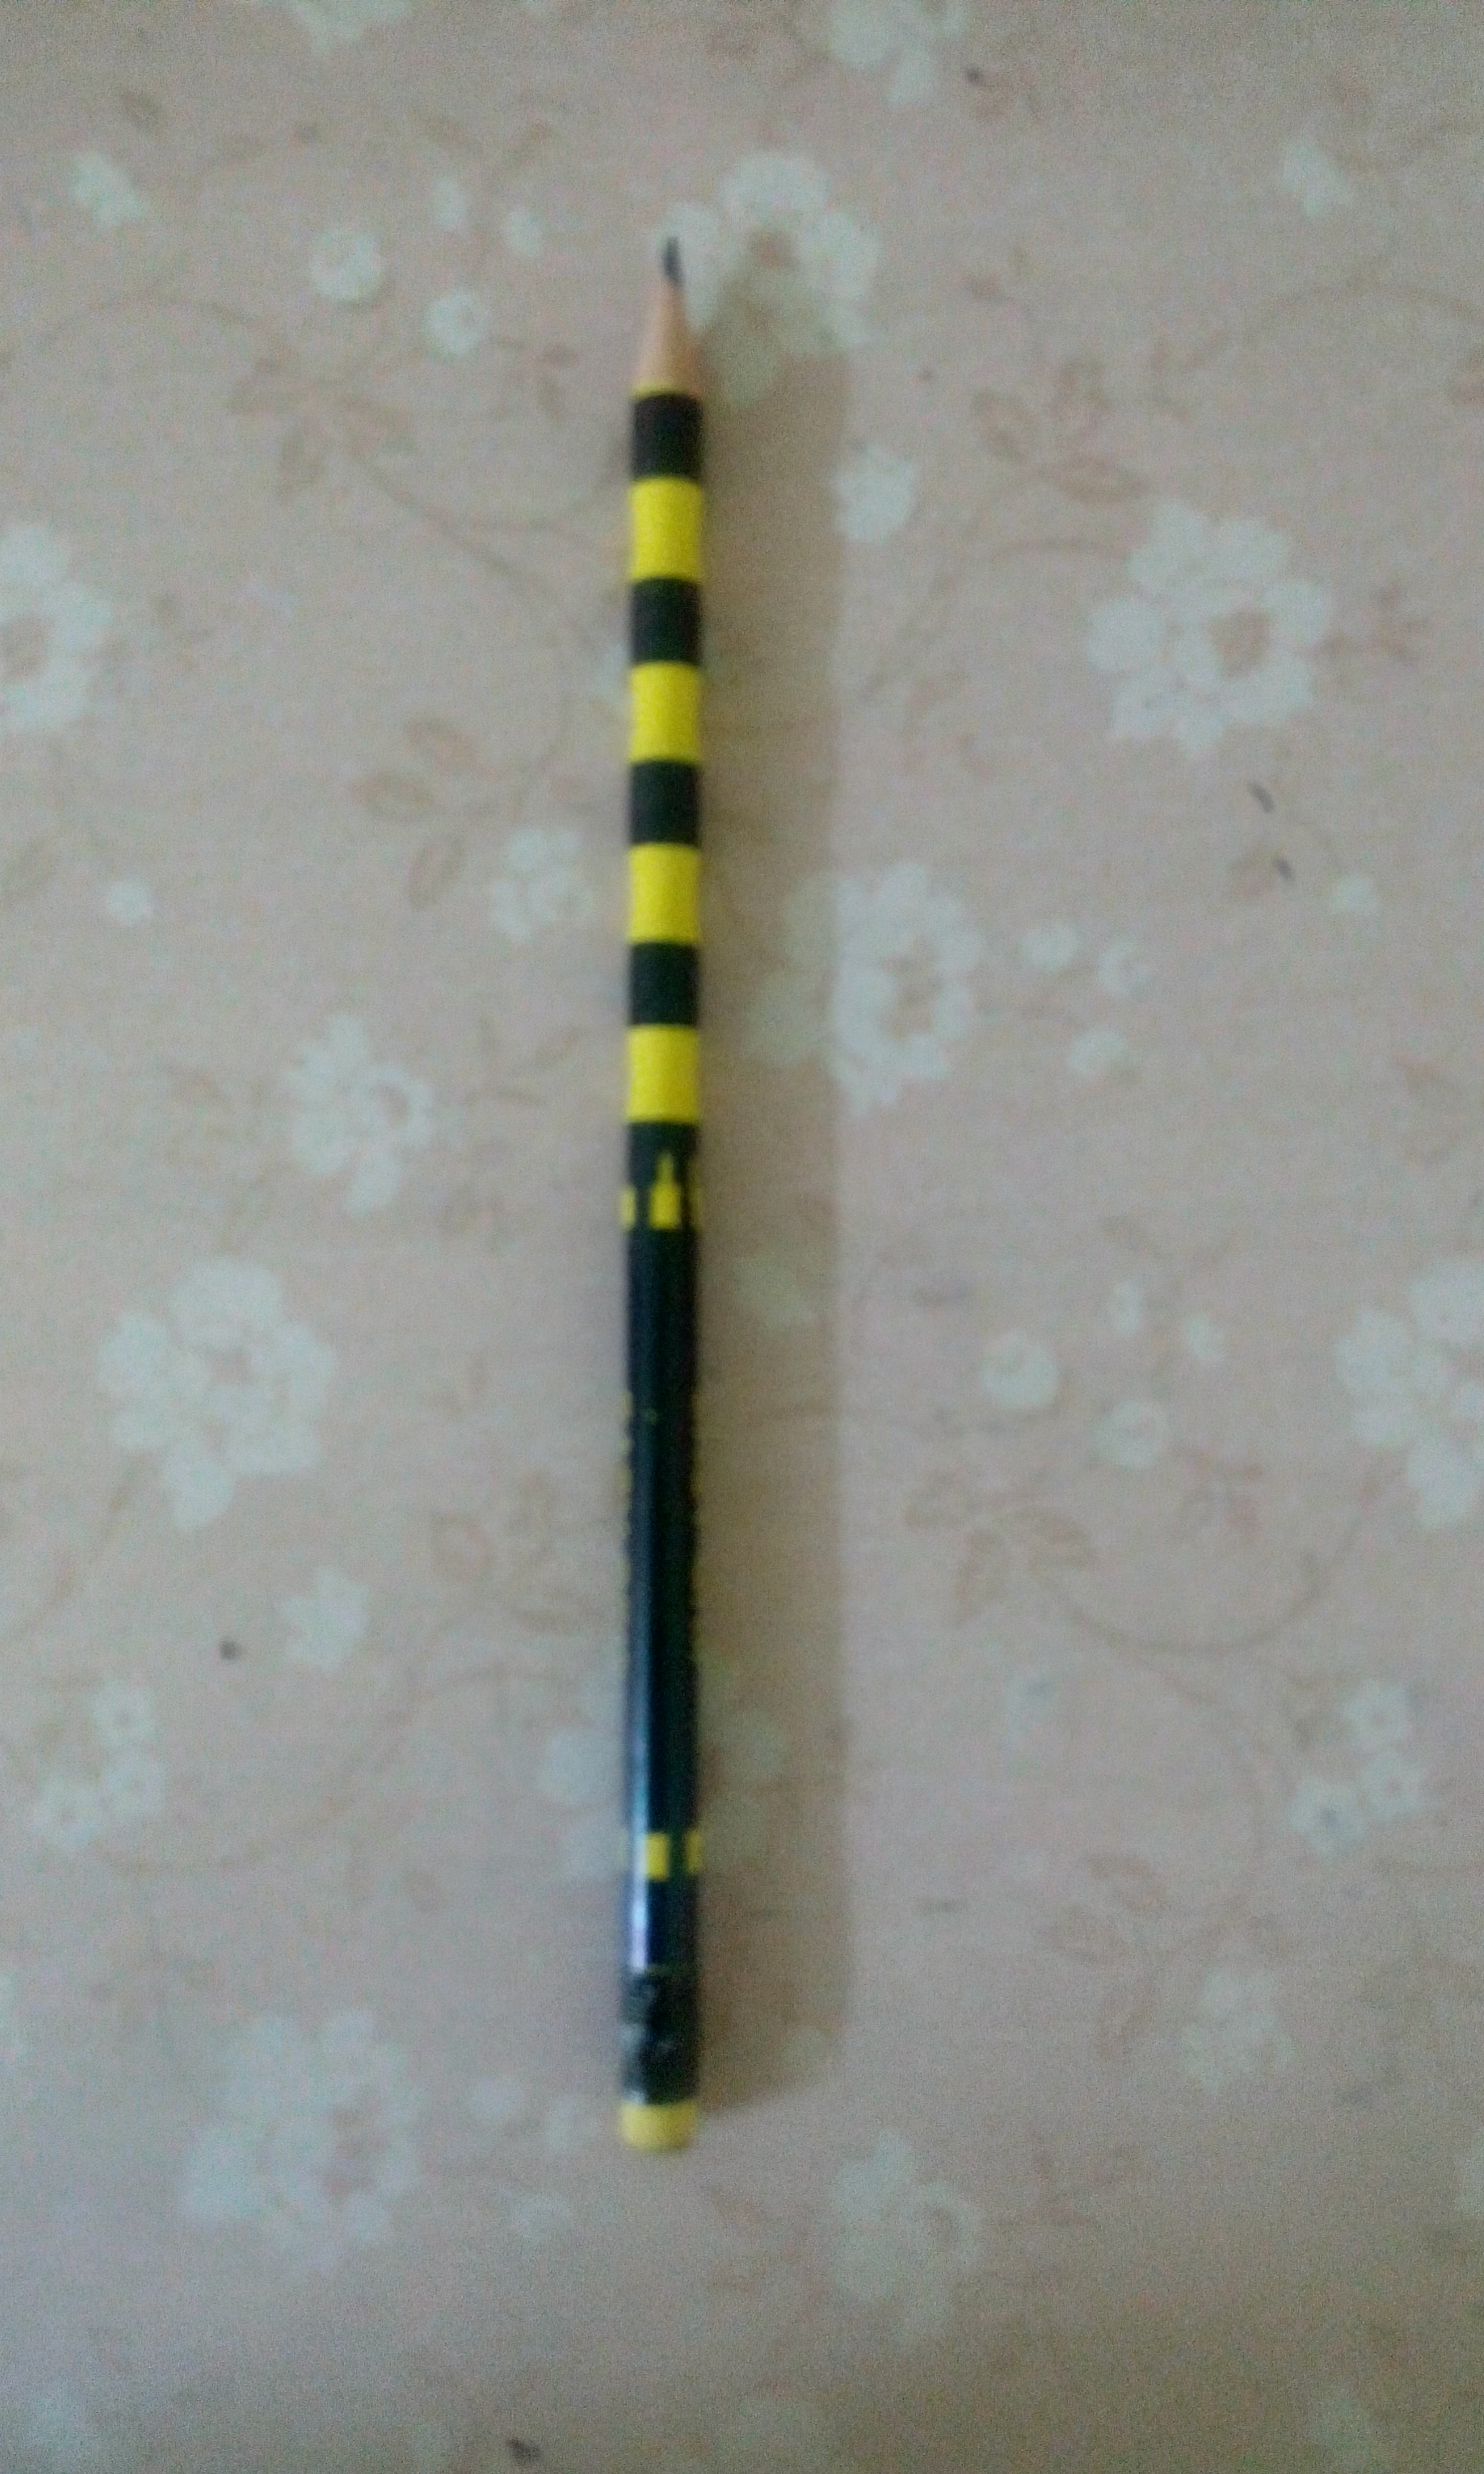pen_tip: (569, 182, 799, 493)
